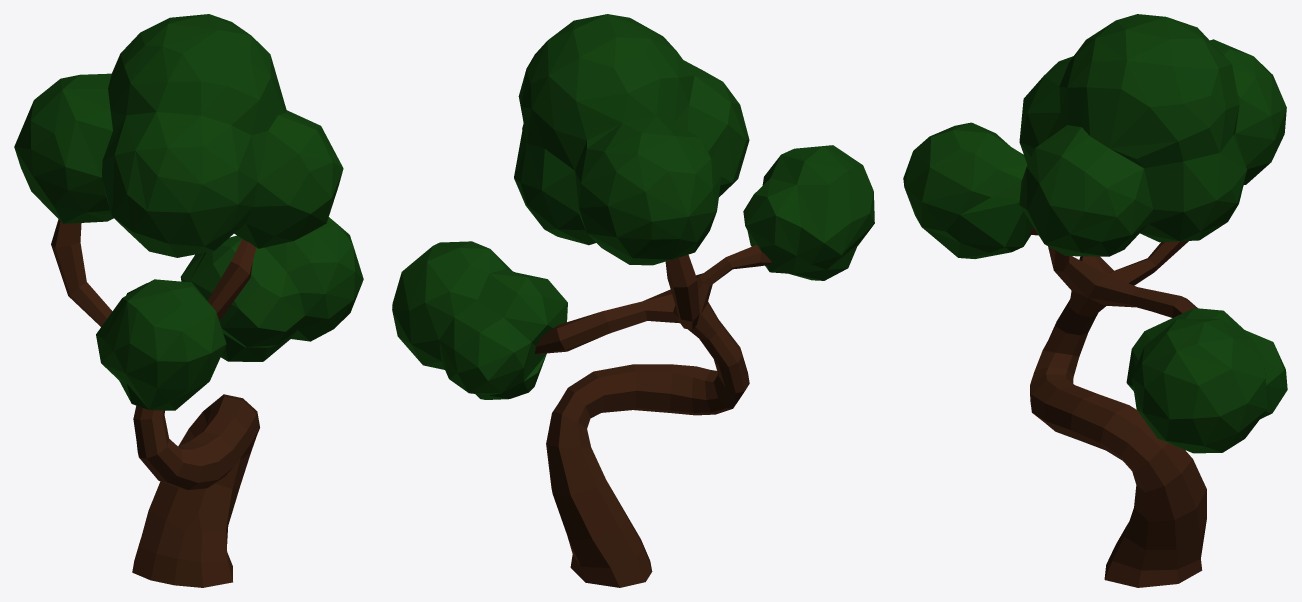
File: tree.obj
The picture shows the model from 3 angles, left to right: view 1: azimuth 30°, elevation 25°; view 2: azimuth 150°, elevation 25°; view 3: azimuth 270°, elevation 25°; orthographic projection. The views are drawn at different scales.
Visible parts, largest first — view 1: LowPoly_Tree_06_lowpoly_tree_02_Mesh.001; view 2: LowPoly_Tree_06_lowpoly_tree_02_Mesh.001; view 3: LowPoly_Tree_06_lowpoly_tree_02_Mesh.001.
Part boxes in pixels (bbox=[...]): LowPoly_Tree_06_lowpoly_tree_02_Mesh.001: bbox=[14, 14, 363, 587]; LowPoly_Tree_06_lowpoly_tree_02_Mesh.001: bbox=[392, 14, 874, 587]; LowPoly_Tree_06_lowpoly_tree_02_Mesh.001: bbox=[903, 14, 1287, 587].
Size of the model in its own units: 2.55 by 3.72 by 2.36.
